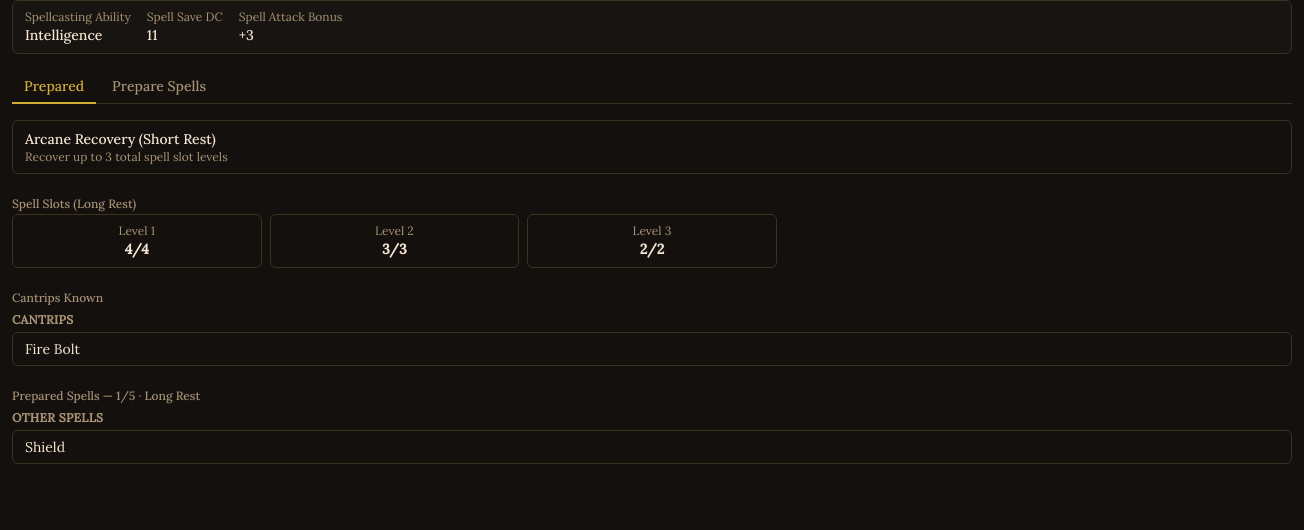
Test: WizardSheet sub-tab navigation › switching to Prepare Spells tab shows chips and hides spell slots label
What coordinates should you click on to do the following:
click the button "Prepare Spells"
I would click on:
 (159, 87)
Its box is [100,70,218,104].
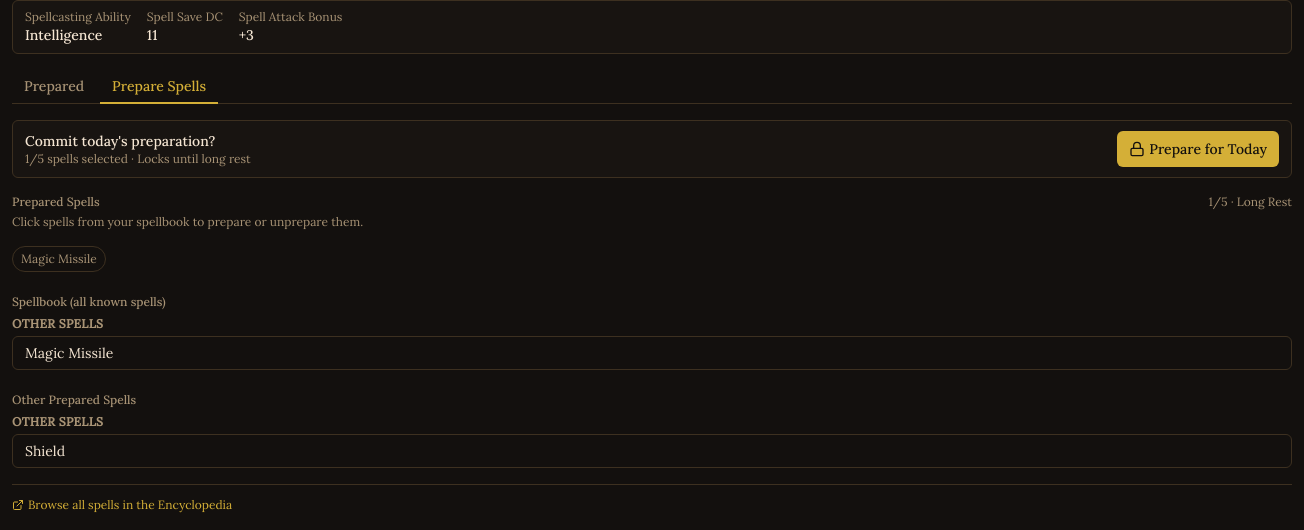
Check: the element with test id "prepared-spell-chips" is shown, box [12,246,106,272]
Check: the text "Spell Slots (Long Rest)" is gone
